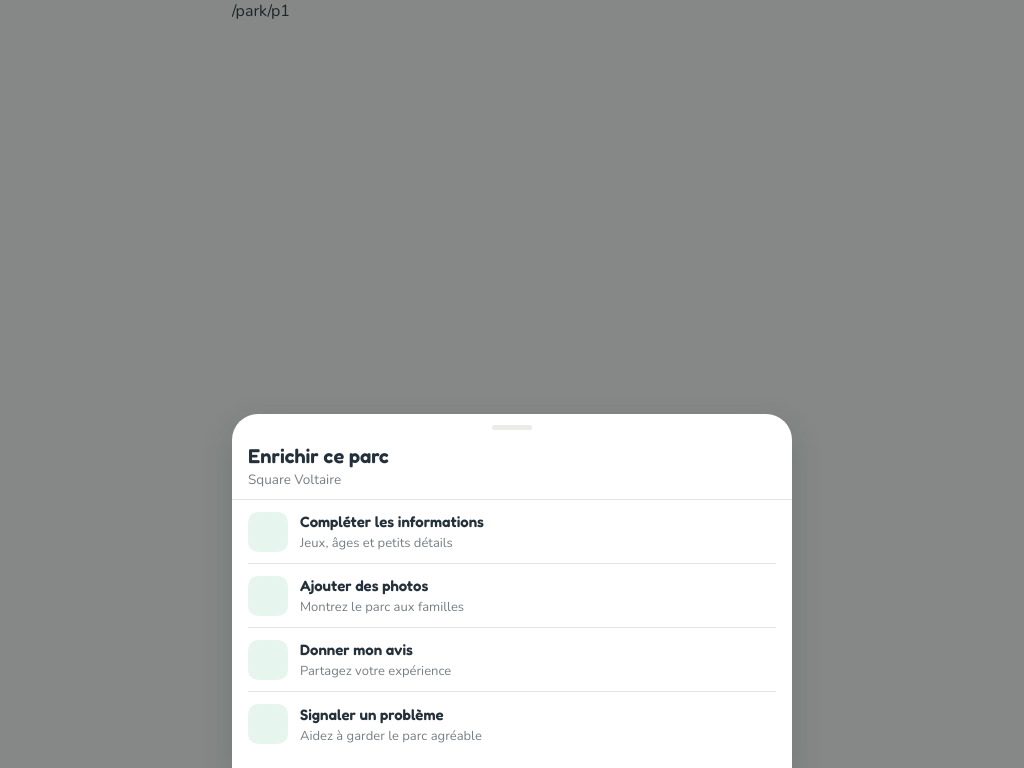
Test: ContributeSheet — « Enrichir ce parc » › « Ajouter des photos » ouvre le parcours avec le parc présélectionné
Click the text "Ajouter des photos" at [364, 586], box x1=300 y1=576 x2=428 y2=595
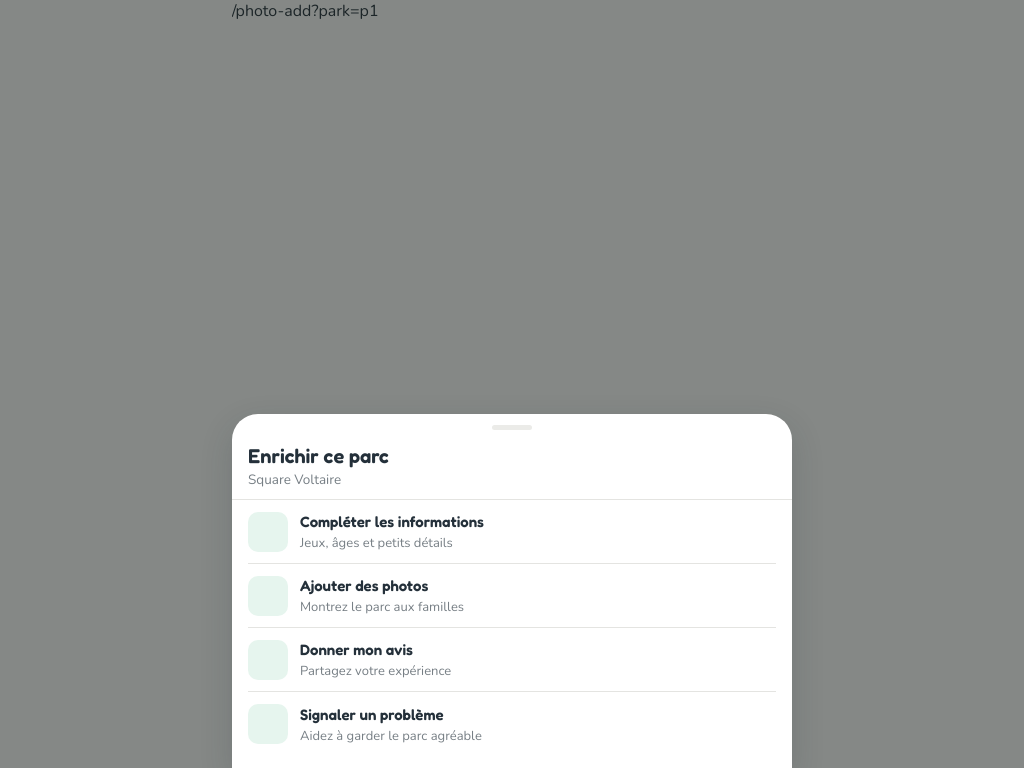
Expected: the text with test id "where" reads "/photo-add?park=p1", x1=232 y1=0 x2=378 y2=22
